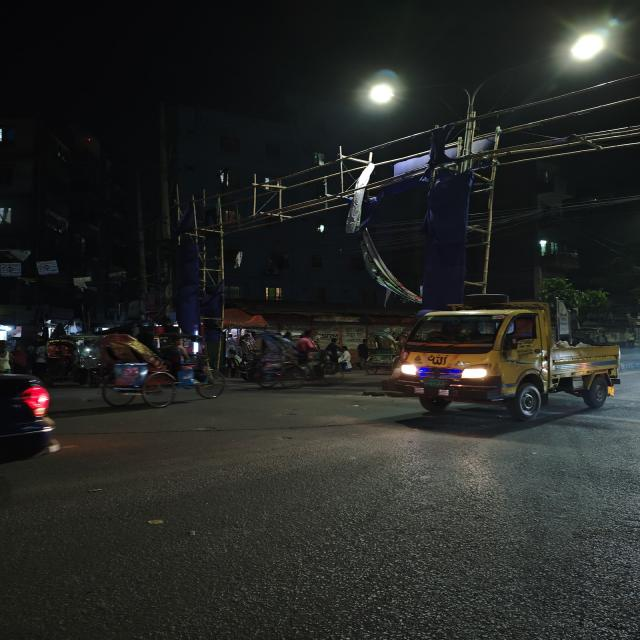car: (0, 367, 65, 474)
pickup_van: (391, 300, 627, 426)
rickshaw: (91, 327, 230, 411), (223, 328, 326, 390), (36, 335, 84, 385)
